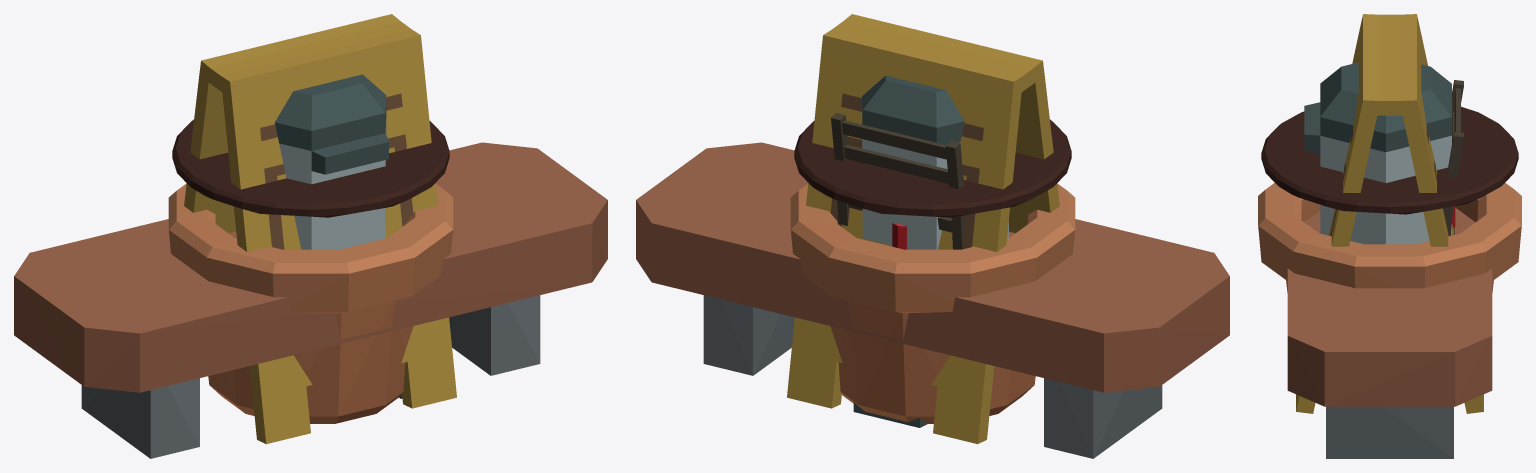
Rendered from street_props.glb.
The picture shows the model from 3 angles, left to right: view 1: azimuth 30°, elevation 25°; view 2: azimuth 150°, elevation 25°; view 3: azimuth 270°, elevation 25°; orthographic projection. The views are drawn at different scales.
Visible parts, largest first — view 1: prop_bench__all, prop_aboard__all, prop_planter__all, prop_bin__all, prop_table__all; view 2: prop_bench__all, prop_aboard__all, prop_planter__all, prop_table__all, prop_bin__all, prop_chair__all; view 3: prop_bench__all, prop_planter__all, prop_aboard__all, prop_table__all, prop_bin__all, prop_chair__all.
Boxes of the visible parts, x1=… form: prop_bench__all: x1=14, y1=142, x2=607, y2=458; prop_aboard__all: x1=184, y1=14, x2=456, y2=444; prop_planter__all: x1=168, y1=183, x2=453, y2=423; prop_bin__all: x1=275, y1=74, x2=388, y2=249; prop_table__all: x1=172, y1=119, x2=449, y2=217; prop_bench__all: x1=636, y1=142, x2=1229, y2=458; prop_aboard__all: x1=787, y1=14, x2=1059, y2=444; prop_planter__all: x1=790, y1=183, x2=1075, y2=423; prop_table__all: x1=794, y1=119, x2=1071, y2=217; prop_bin__all: x1=853, y1=75, x2=1008, y2=427; prop_chair__all: x1=831, y1=113, x2=966, y2=249; prop_bench__all: x1=1287, y1=208, x2=1492, y2=458; prop_planter__all: x1=1258, y1=183, x2=1521, y2=292; prop_aboard__all: x1=1296, y1=14, x2=1483, y2=413; prop_table__all: x1=1261, y1=106, x2=1518, y2=214; prop_bin__all: x1=1304, y1=62, x2=1451, y2=244; prop_chair__all: x1=1443, y1=80, x2=1463, y2=235.
Size of the model in its own units: 1.7 by 1.05 by 0.8.
